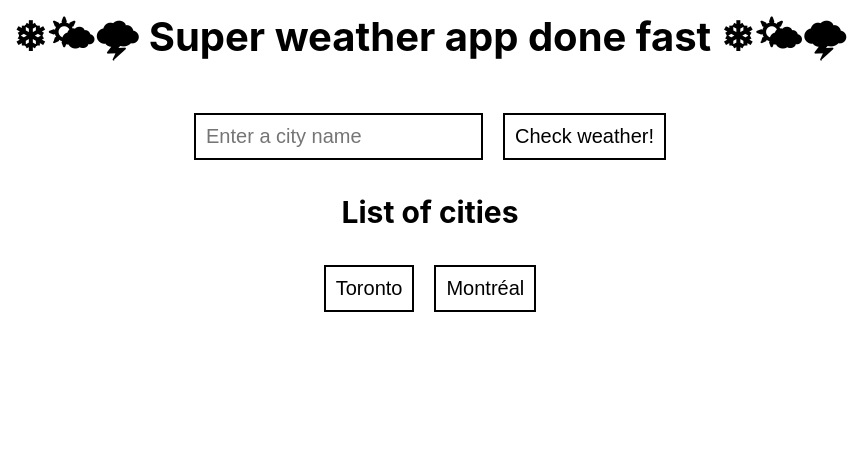
Scenario: Weather app flow › should load the initial page, typing a city name should create a button if the city is not already there
The width and height of the screenshot is (864, 461).
Type "Kansas City" into the field with placeholder "Enter a city name" at [339, 137], box [194,113,483,160]
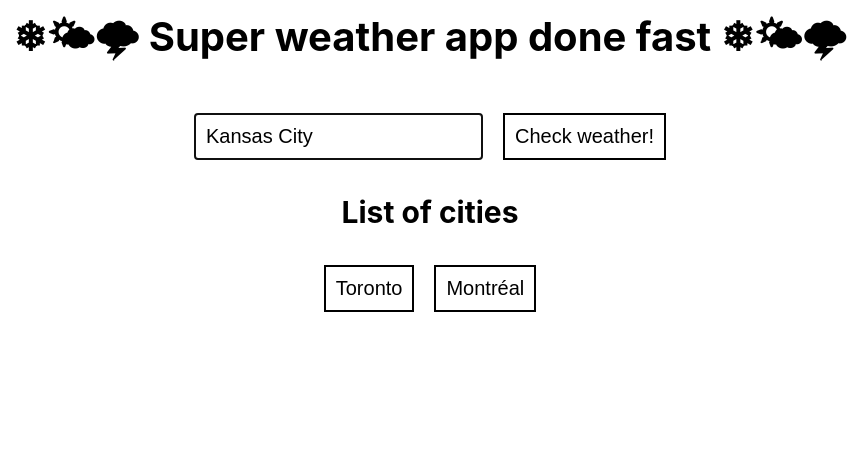
Press Enter in the field, box [194,113,483,160]
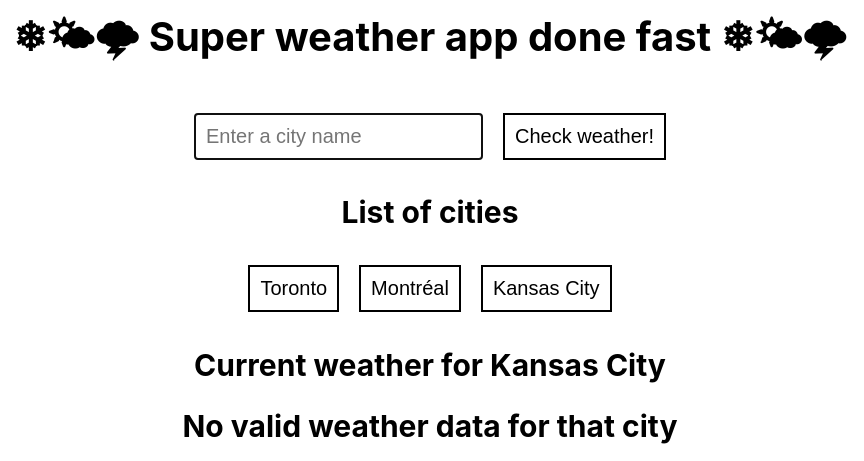
Check: the text "Current weather for" is shown, box [194,347,490,383]
Check: the text "Kansas City" is shown, box [490,347,666,383]
